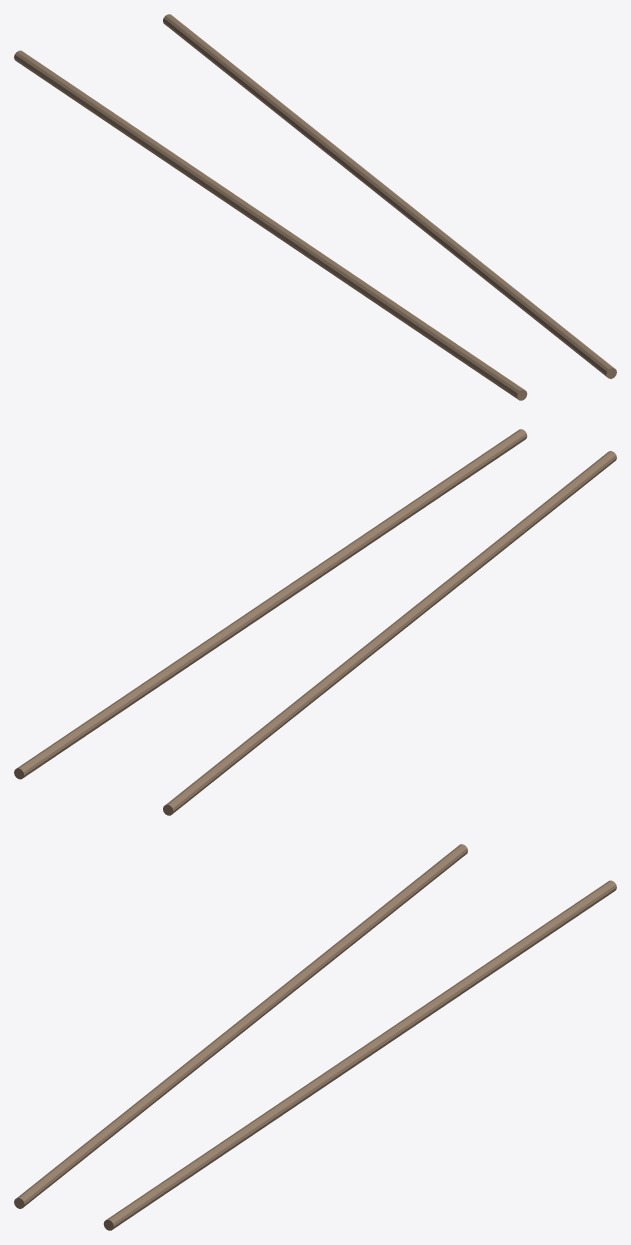
The model's file is VH-REINS.glb.
3 views of the same model, one above another, from view 1: azimuth 30°, elevation 25°; view 2: azimuth 150°, elevation 25°; view 3: azimuth 330°, elevation 25° (orthographic).
Visible parts, largest first — view 1: strap (×2); view 2: strap (×2); view 3: strap (×2).
Part boxes in pixels (<box>): strap (×2): <box>14,14,616,400</box>; strap (×2): <box>14,429,616,815</box>; strap (×2): <box>14,844,616,1230</box>.
Bounding box in the file's own units: 0.214 × 0.014 × 1.1.
